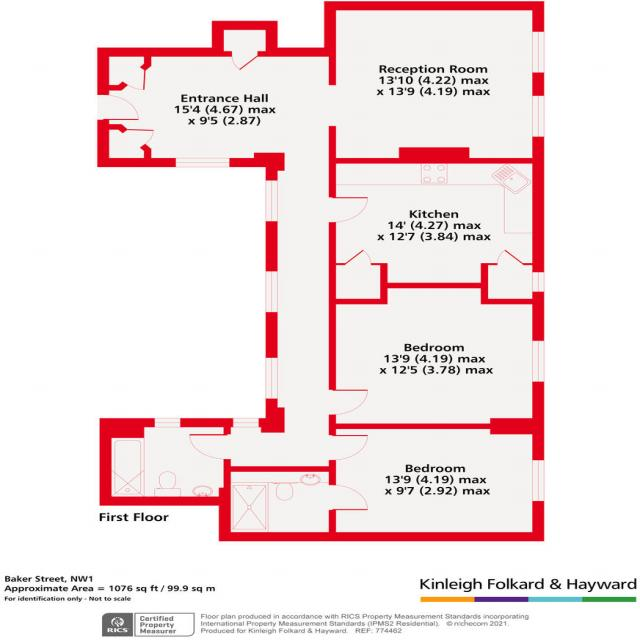DOOR: (182, 430, 231, 463), (97, 91, 145, 123), (328, 387, 371, 421), (328, 482, 373, 514), (329, 432, 372, 464), (328, 195, 370, 224)
ROOM: (328, 137, 545, 305), (329, 282, 544, 423), (330, 423, 545, 542)
WINDOW: (261, 177, 281, 226), (171, 155, 233, 170), (530, 30, 548, 74), (530, 338, 547, 383), (263, 269, 280, 314), (529, 94, 546, 139), (531, 459, 547, 502), (264, 357, 280, 400), (152, 416, 182, 429), (530, 270, 546, 294), (232, 417, 260, 429)
